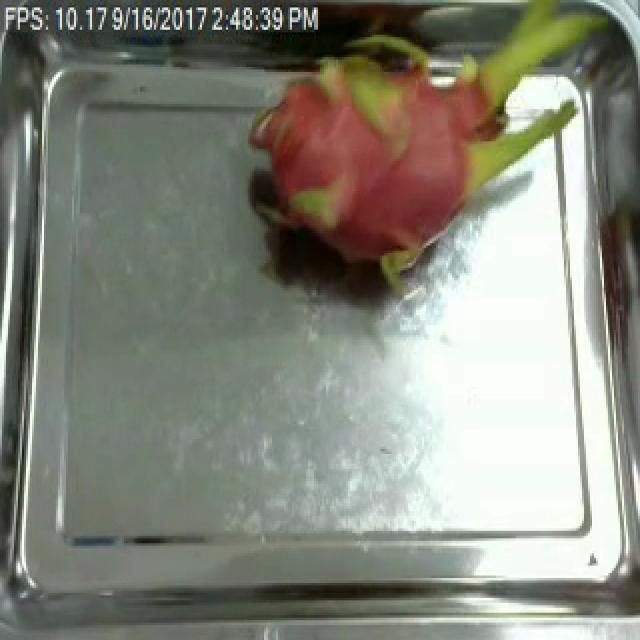fruit: (228, 0, 612, 330)
